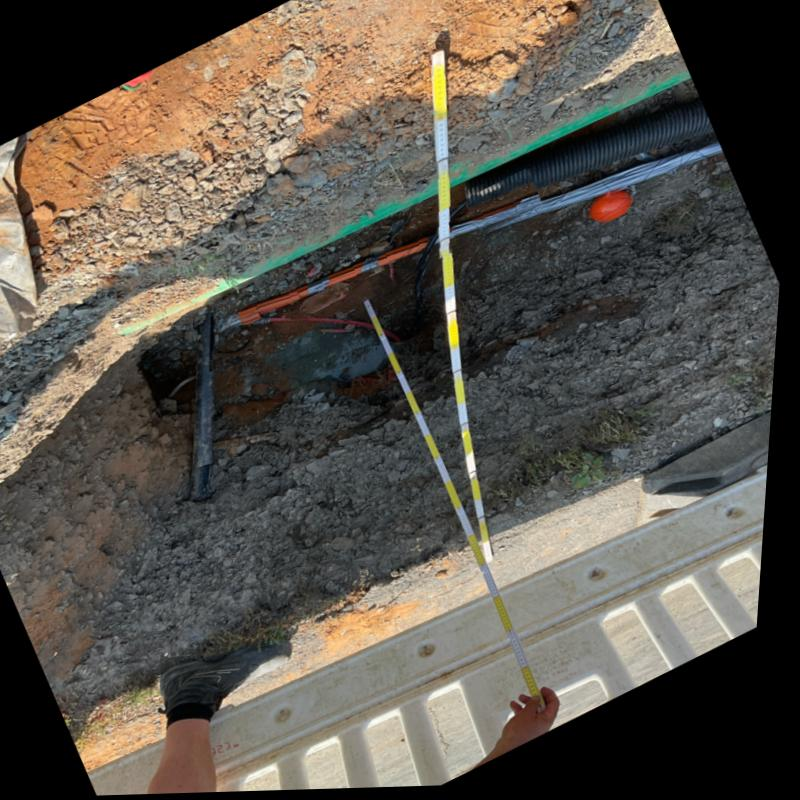Kugelmarker: (591, 194, 636, 226)
Orang-Speednetrohrchen: (245, 199, 543, 323)
